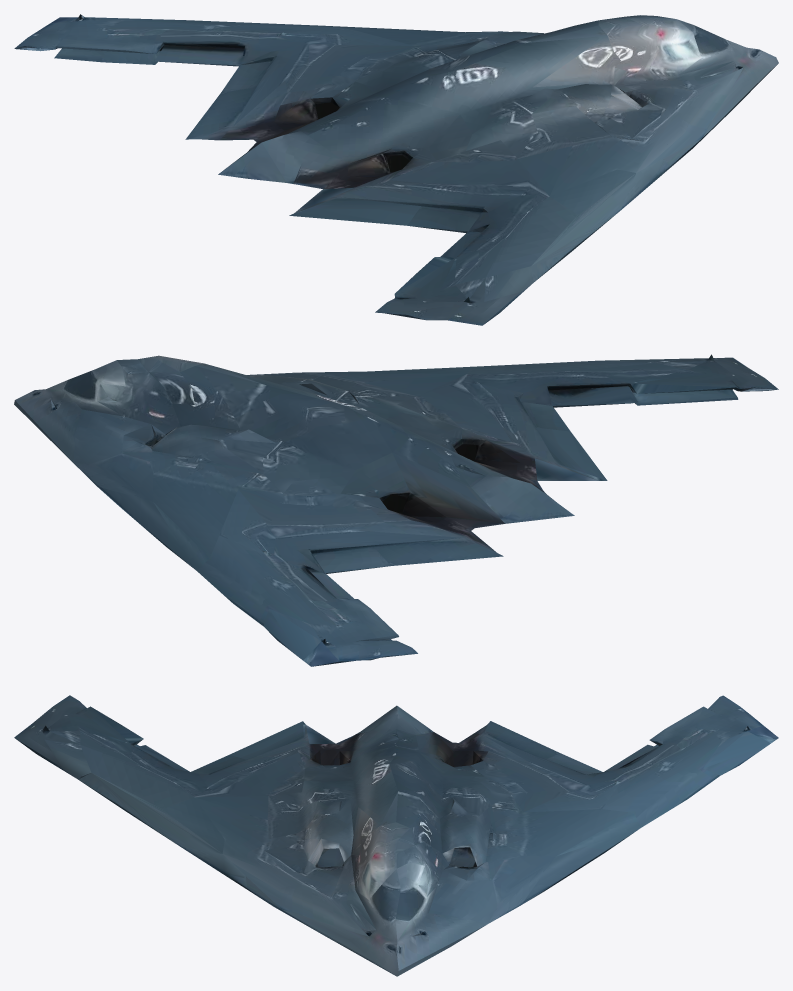
3 views of the same model, one above another, from view 1: azimuth 30°, elevation 25°; view 2: azimuth 150°, elevation 25°; view 3: azimuth 270°, elevation 25° (orthographic). The views are drawn at different scales.
Visible parts, largest first — view 1: hull, wingR, wingL, engR, engL, stabR, stabL, finR, pilot, finL; view 2: hull, wingL, wingR, engL, engR, stabL, stabR, finR, finL, pilot; view 3: hull, wingL, wingR, engL, engR, pilot, finR, stabL, stabR, finL.
Boxes of the visible parts, <box> form: hull: <box>218,16,778,188</box>; wingR: <box>340,111,702,325</box>; wingL: <box>49,14,508,126</box>; engR: <box>323,67,652,196</box>; engL: <box>234,31,543,139</box>; stabR: <box>289,187,487,233</box>; stabL: <box>185,52,274,140</box>; finR: <box>375,258,466,320</box>; pilot: <box>627,15,728,75</box>; finL: <box>14,20,160,58</box>; hull: <box>14,355,574,530</box>; wingL: <box>91,454,462,666</box>; wingR: <box>248,354,746,462</box>; engL: <box>123,404,503,537</box>; engR: <box>249,375,555,480</box>; stabL: <box>303,524,503,573</box>; stabR: <box>518,393,607,480</box>; finR: <box>630,360,778,397</box>; finL: <box>324,602,417,661</box>; pilot: <box>62,355,158,416</box>; hull: <box>266,705,521,976</box>; wingL: <box>484,707,778,905</box>; wingR: <box>14,707,302,909</box>; engL: <box>430,732,511,879</box>; engR: <box>283,738,361,868</box>; pilot: <box>355,840,437,922</box>; finR: <box>32,695,129,743</box>; stabL: <box>459,721,605,775</box>; stabR: <box>191,721,335,774</box>; finL: <box>677,695,762,744</box>.
Bounding box in the file's own units: 27.68 × 4.53 × 34.6.
1 material, 1 textured.
